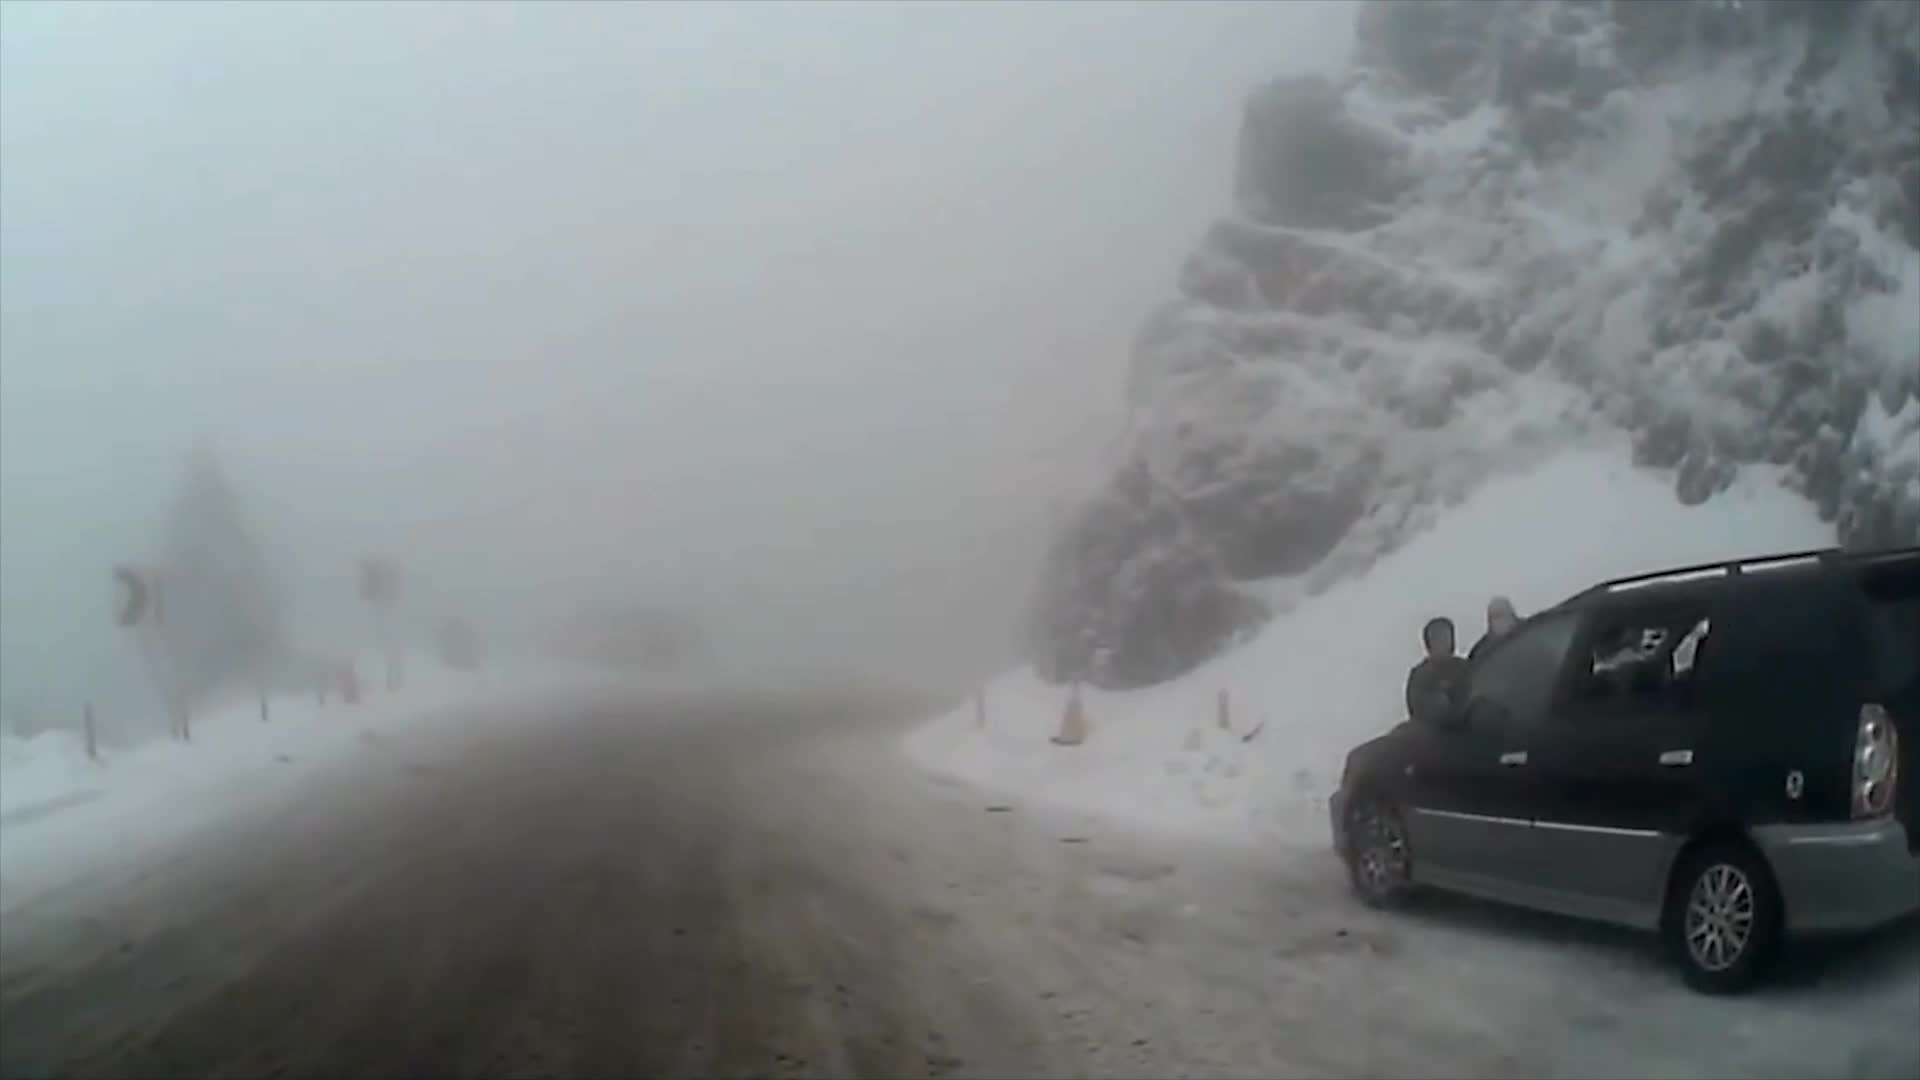pedestrian: (1403, 612, 1477, 870)
vehicle: (1326, 538, 1919, 998)
